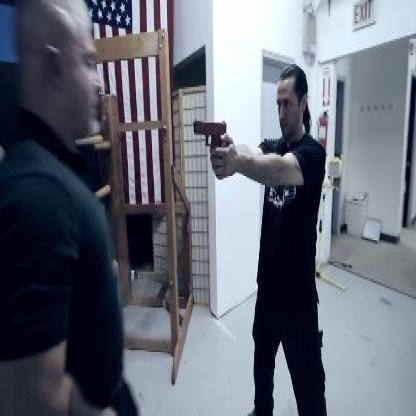pistol: (192, 119, 226, 148)
